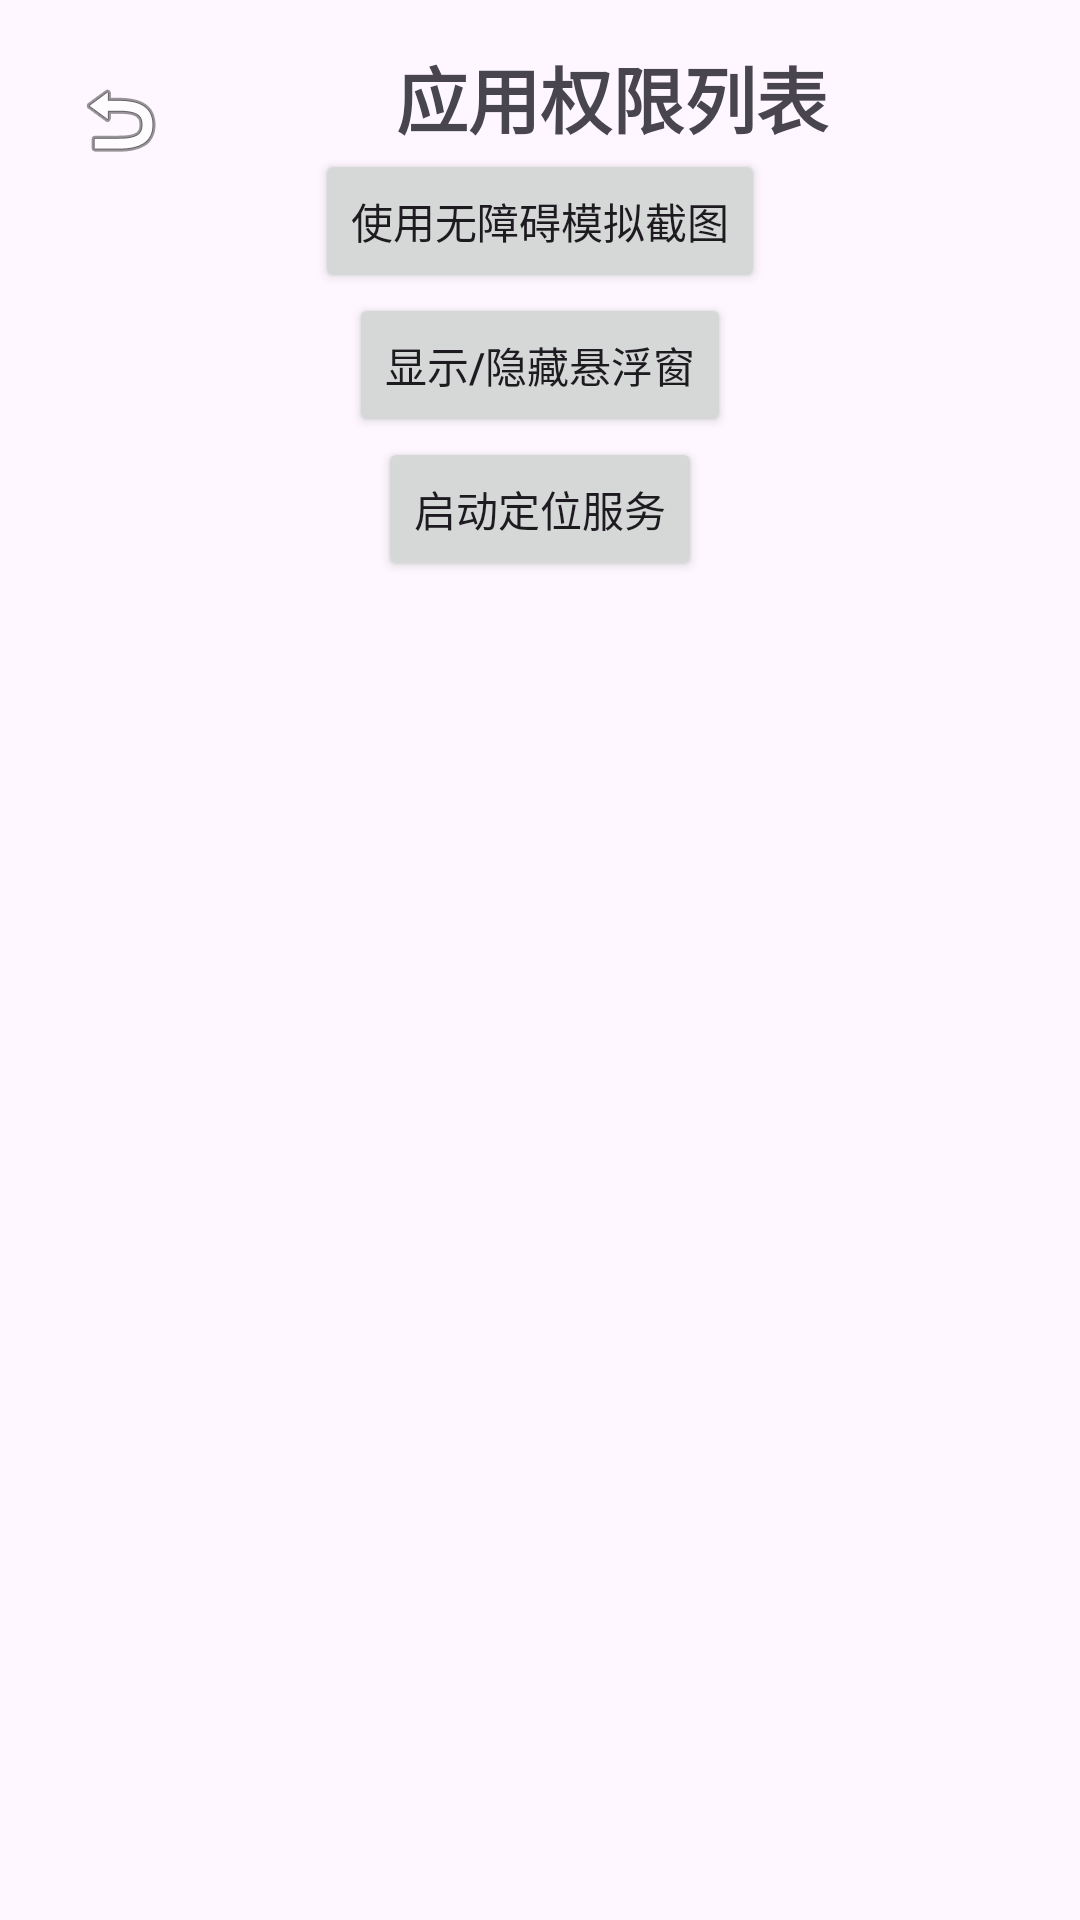

Screen size 1080w x 1920h. Icon name, then its box in pixels as rect(x1, y1, x2, y2):
返回: rect(87, 89, 156, 152)
